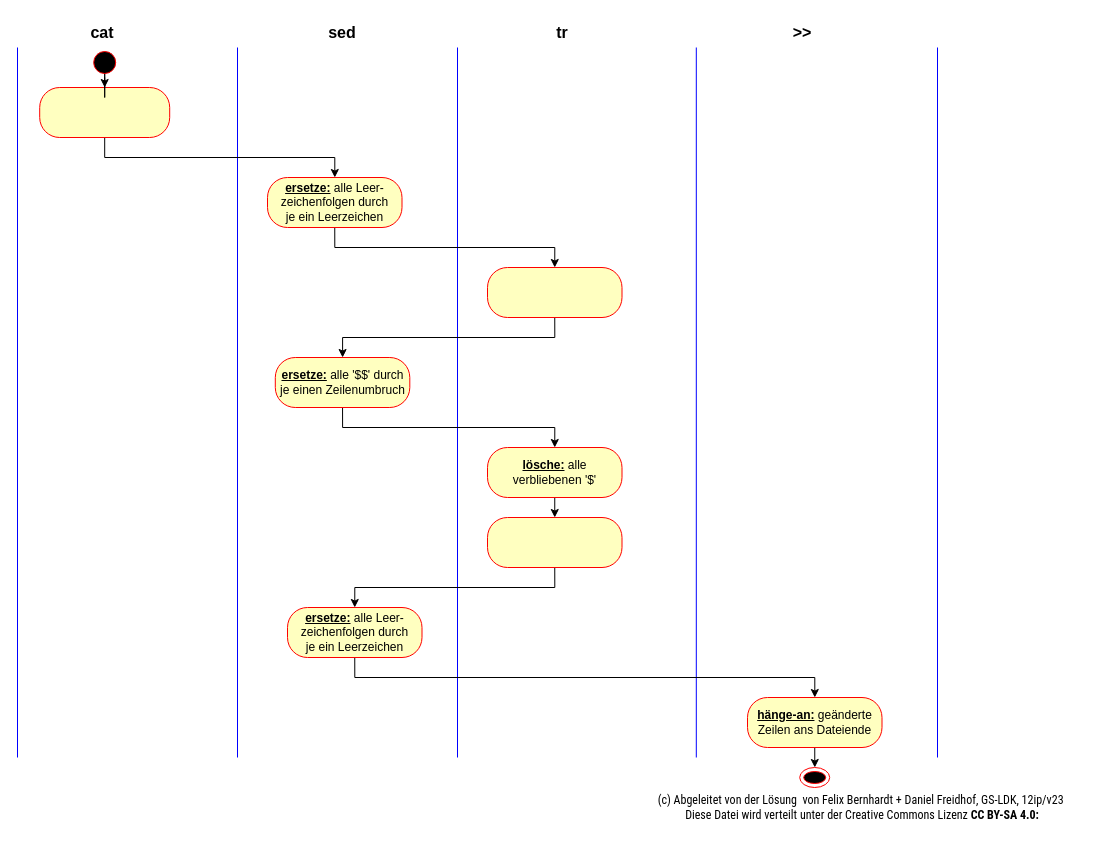
Image size: 1105x844. Some labels were removed from this diagram. Each missing label, with the box of its shape:
ersetze: alle Zeilenumbrüche durch je ein '$': (486, 266, 622, 318)
ersetze: jedes 'a' durch 'a': (486, 516, 622, 568)
lies: Datei zeilen- weise ein und reiche Zeile für Zeile weiter: (39, 86, 170, 138)
